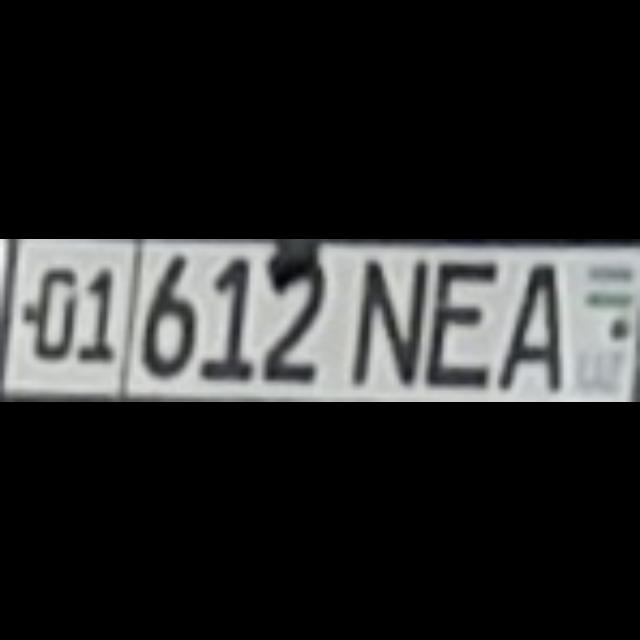0: (31, 264, 74, 354)
1: (197, 250, 249, 376), (72, 264, 111, 354)
2: (258, 255, 318, 375)
6: (137, 251, 193, 371)
A: (498, 256, 558, 384)
E: (420, 254, 490, 380)
N: (348, 250, 426, 380)
